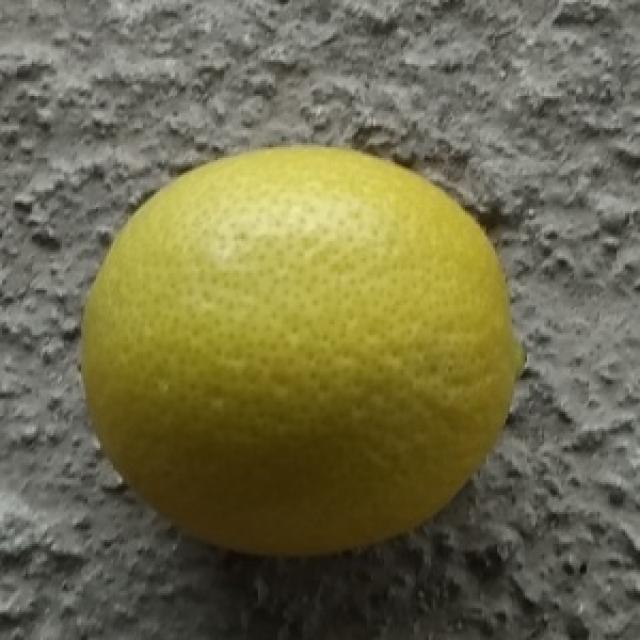Ripe: (73, 146, 526, 564)
